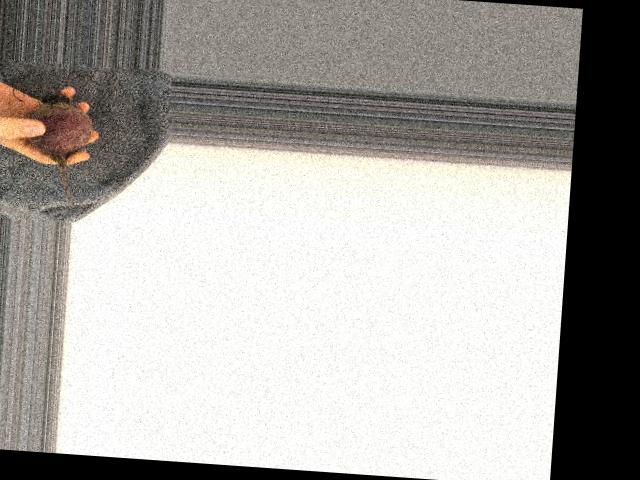beet: (19, 93, 95, 208)
